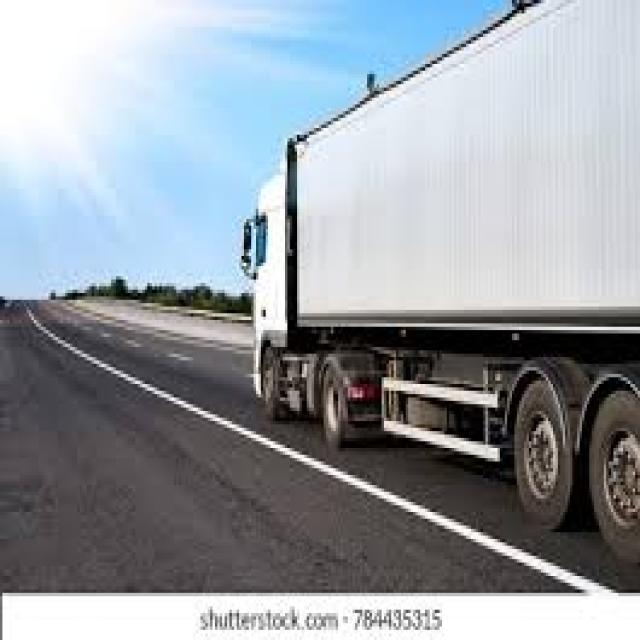covered: (236, 0, 637, 569)
